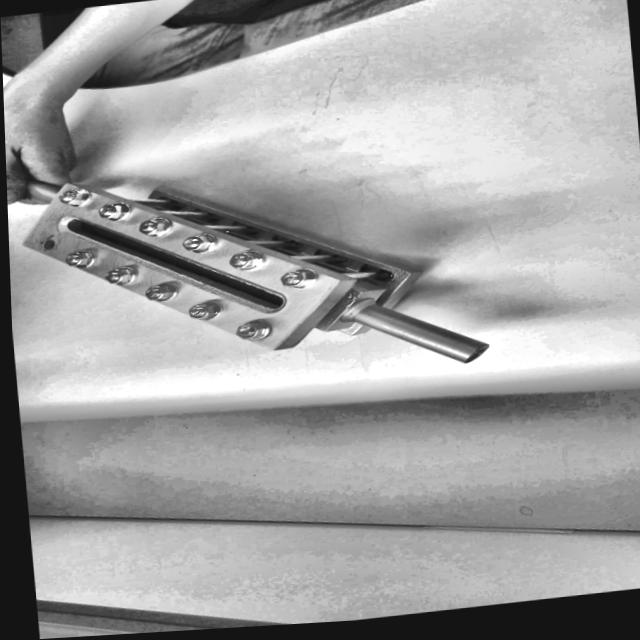ShuiWeiQi_11: (18, 141, 479, 416)
